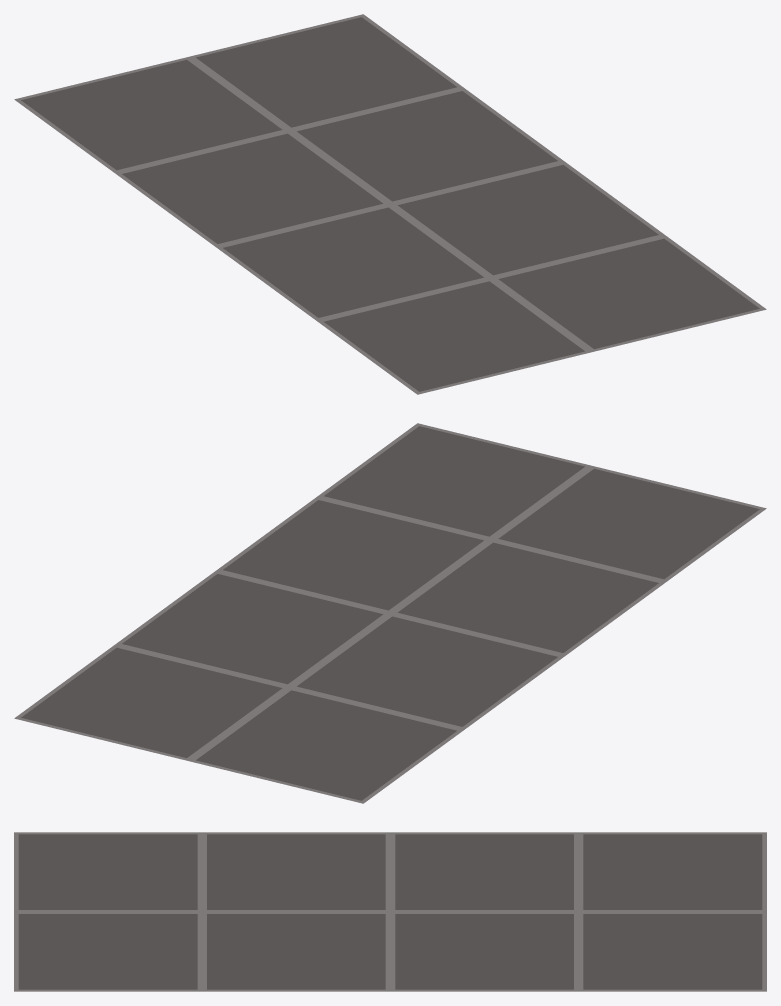
The model's file is scifi-floor-narrow.glb.
3 views of the same model, one above another, from view 1: azimuth 30°, elevation 25°; view 2: azimuth 150°, elevation 25°; view 3: azimuth 270°, elevation 25° (orthographic). The views are drawn at different scales.
Visible parts, largest first — view 1: scifi-floor-narrow; view 2: scifi-floor-narrow; view 3: scifi-floor-narrow.
Boxes of the visible parts, x1,y1,x2,y2 form: scifi-floor-narrow: (14,14,766,394); scifi-floor-narrow: (14,423,766,803); scifi-floor-narrow: (14,832,766,991).
Bounding box in the file's own units: 2 × 8.88e-16 × 4.
Materials: 1 (1 with a texture image).
